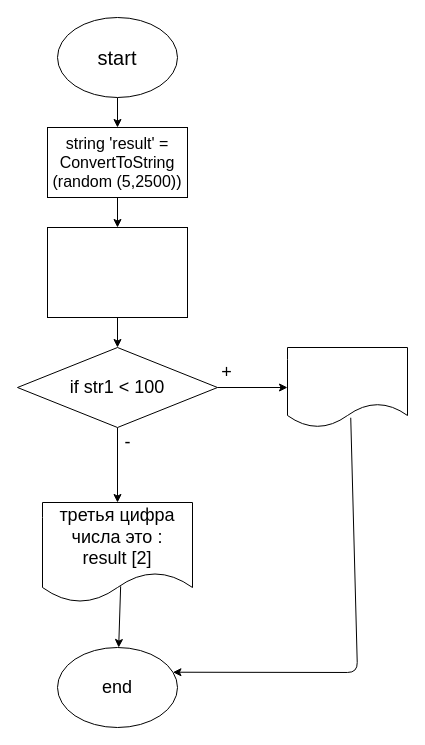
The diagram is 425 pixels wide and 745 high, and some of its shapes have lost their labels. The shapes that lost their labels are listed below. From the top down, each one's centre as x and y in pixels, then its label:
At (x=117, y=272): "int 'str1' = ConvertToInt (result);".
At (x=347, y=387): "третьей цифры нет".
